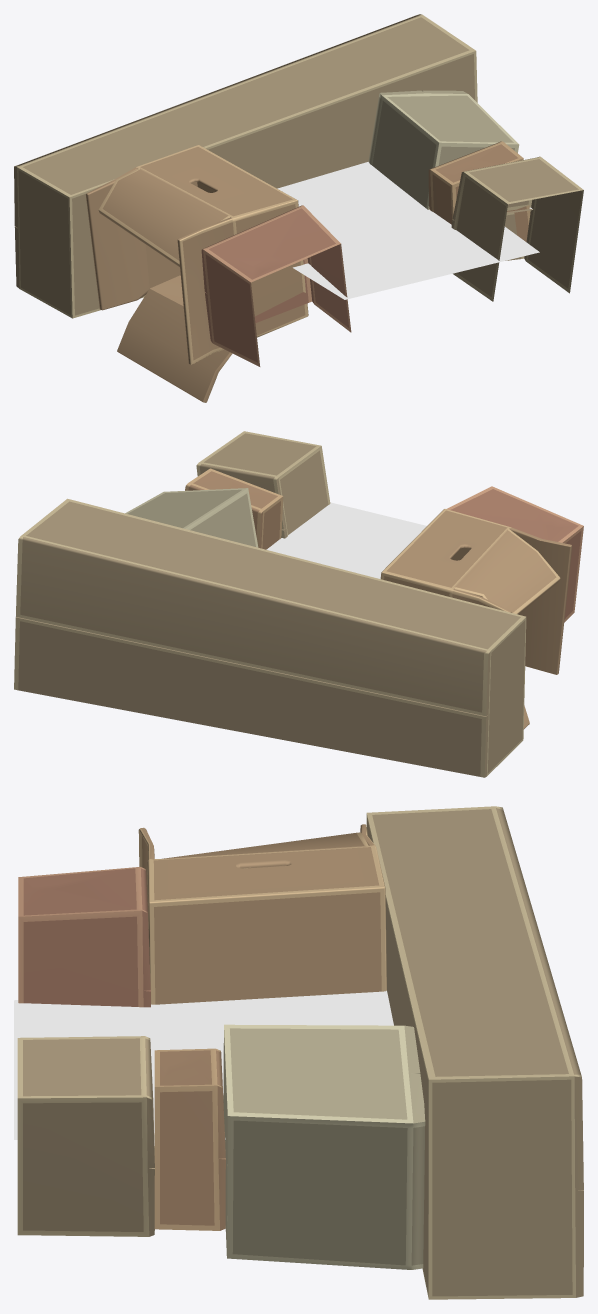
File: EntrancePortal.fbx
3 renders of one model, top to bottom at view 1: azimuth 30°, elevation 25°; view 2: azimuth 150°, elevation 25°; view 3: azimuth 270°, elevation 25°, orthographic. The views are drawn at different scales.
Parts seen in each view (by area): view 1: Box, Vortex; view 2: Box, Vortex; view 3: Box, Vortex.
Part boxes in pixels (box(x1,y1,x2,y2)): Box: box(14, 14, 583, 402); Vortex: box(277, 162, 539, 299); Box: box(14, 431, 583, 777); Vortex: box(266, 502, 426, 578); Box: box(17, 806, 583, 1299); Vortex: box(14, 990, 393, 1139).
Bounding box in the file's own units: 415 × 179 × 317.
